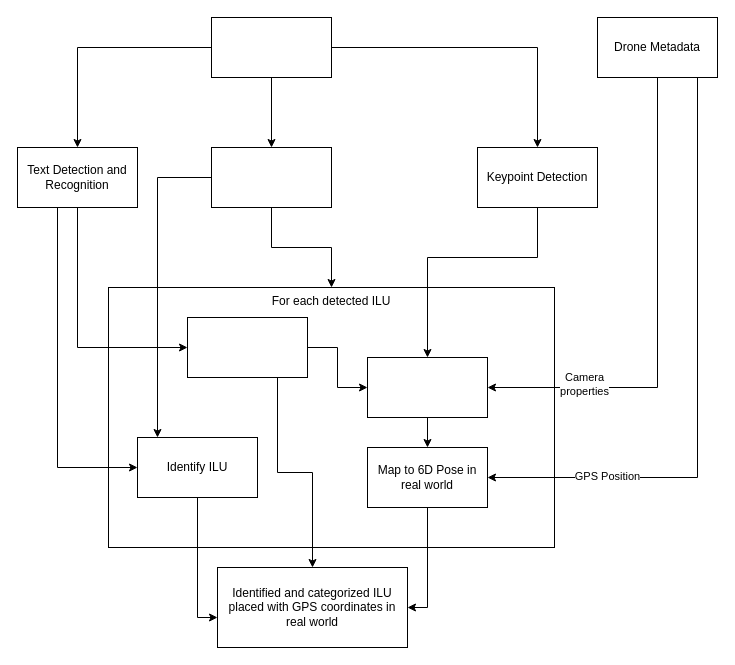
Image size: 735x665. Some labels were removed from this diagram. The shapes that lost their labels are listed below. From the top down, each one's box as (x1, y1, x2, y2) in pixels, then its label:
(210, 16, 332, 78): Image
(210, 146, 332, 208): Instance Segmentation
(186, 316, 308, 378): Categorize ILU
(366, 356, 488, 418): Estimate 6D Pose relative to camera
